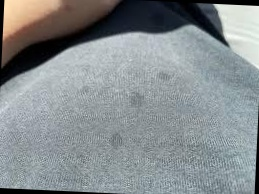oil: (153, 66, 171, 82), (127, 90, 143, 107), (110, 132, 118, 145), (78, 84, 87, 91)
